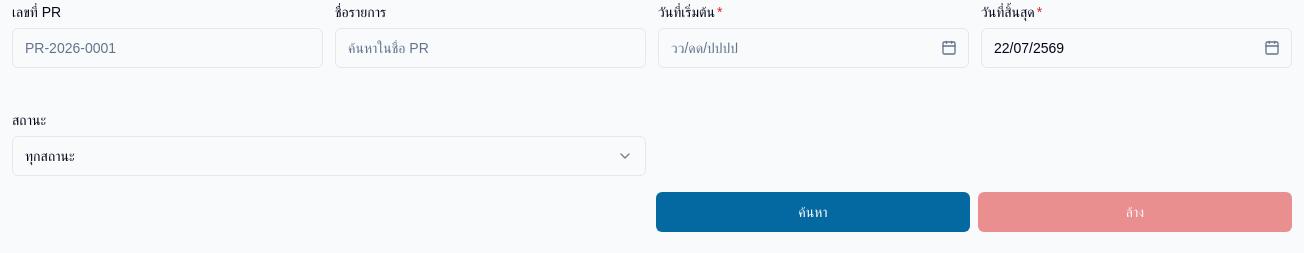
PRListFilterForm › shows error when from > to
Type "30062569" into the field labelled "วันที่เริ่มต้น*".
click(814, 48); type("30062569")  # box left=658, top=28, right=969, bottom=68
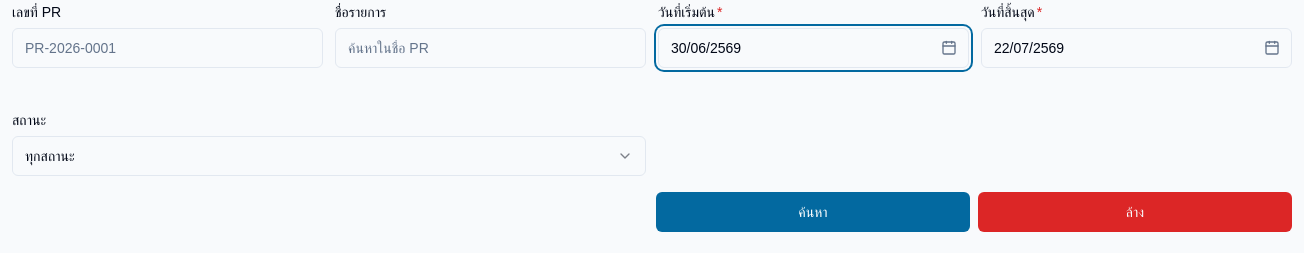
Replace the text in the field labelled "วันที่สิ้นสุด*" with "01062569" at (1136, 48), box left=981, top=28, right=1292, bottom=68
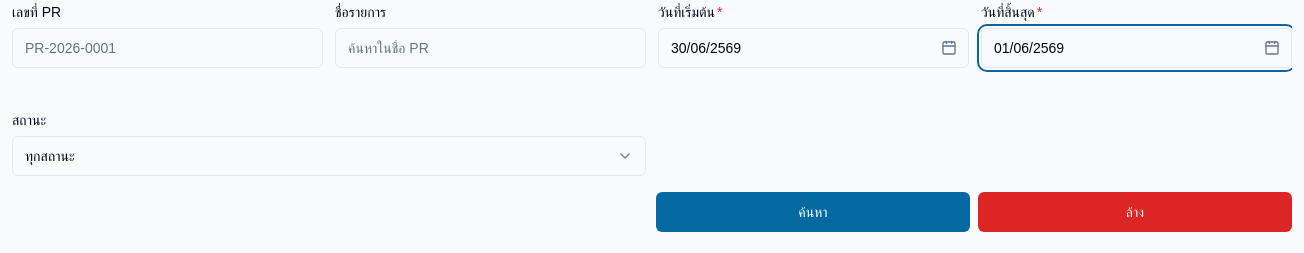
Click the button "ค้นหา".
click(813, 212)  # box left=656, top=192, right=970, bottom=232
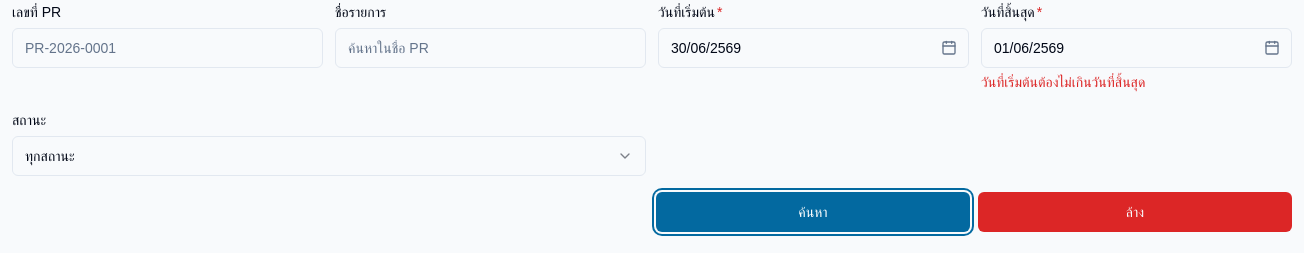
Now the text "วันที่เริ่มต้นต้องไม่เกินวันที่สิ้นสุด" is shown, box left=981, top=74, right=1145, bottom=90
